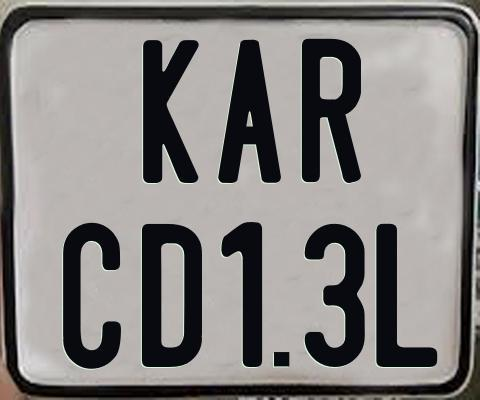1: (218, 222, 260, 367)
3: (303, 224, 368, 369)
A: (218, 38, 284, 185)
C: (63, 221, 125, 369)
D: (141, 221, 204, 370)
K: (143, 40, 204, 188)
L: (375, 224, 437, 368)
R: (300, 37, 359, 183)
